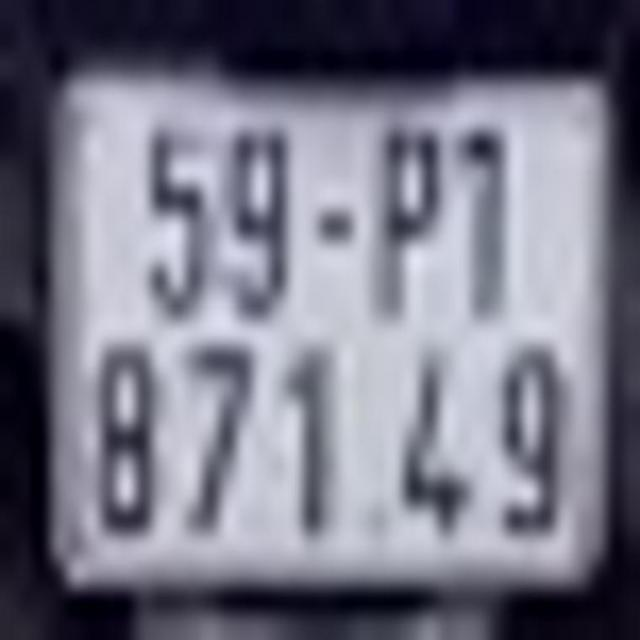1: (459, 118, 520, 328), (285, 344, 340, 537)
4: (388, 342, 480, 540)
5: (144, 115, 213, 319)
7: (172, 334, 258, 536)
8: (90, 327, 163, 538)
9: (493, 338, 570, 540), (224, 121, 291, 329)
P: (372, 112, 452, 325)
